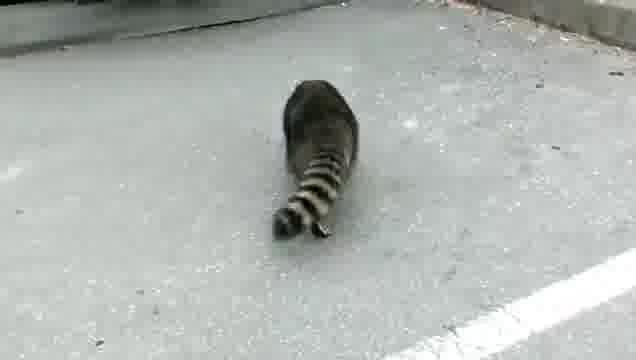raccoon: (269, 76, 364, 244)
